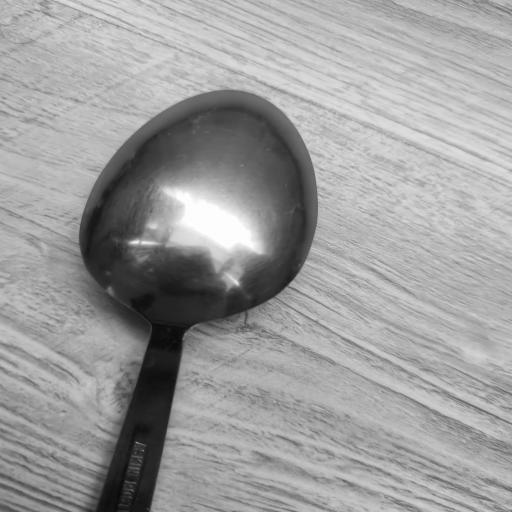spoon: (85, 91, 325, 512)
